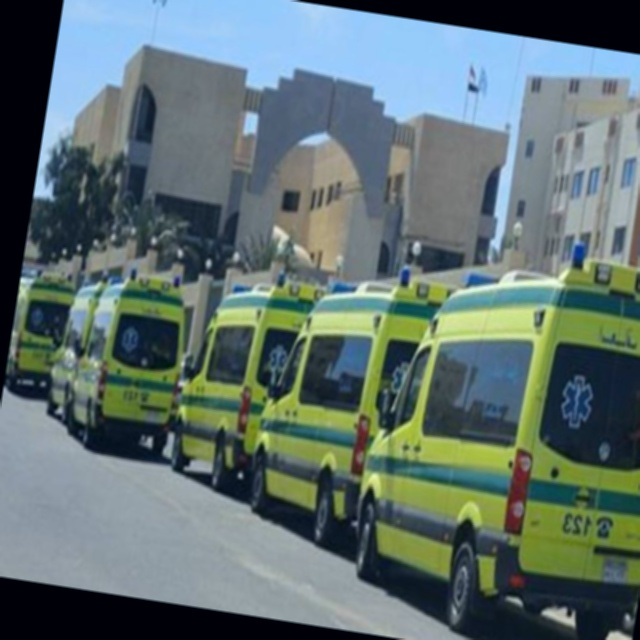Ambulance: (340, 214, 640, 640), (242, 244, 469, 562), (166, 256, 333, 503), (61, 258, 200, 459), (44, 271, 112, 423), (4, 264, 80, 398), (7, 262, 46, 380)
